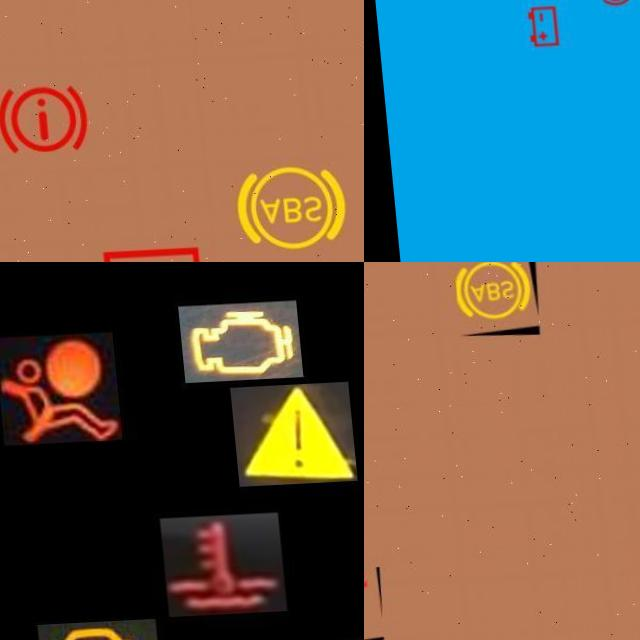Central Warning lamp: (225, 386, 351, 490)
Engine cooling system: (152, 516, 278, 619)
